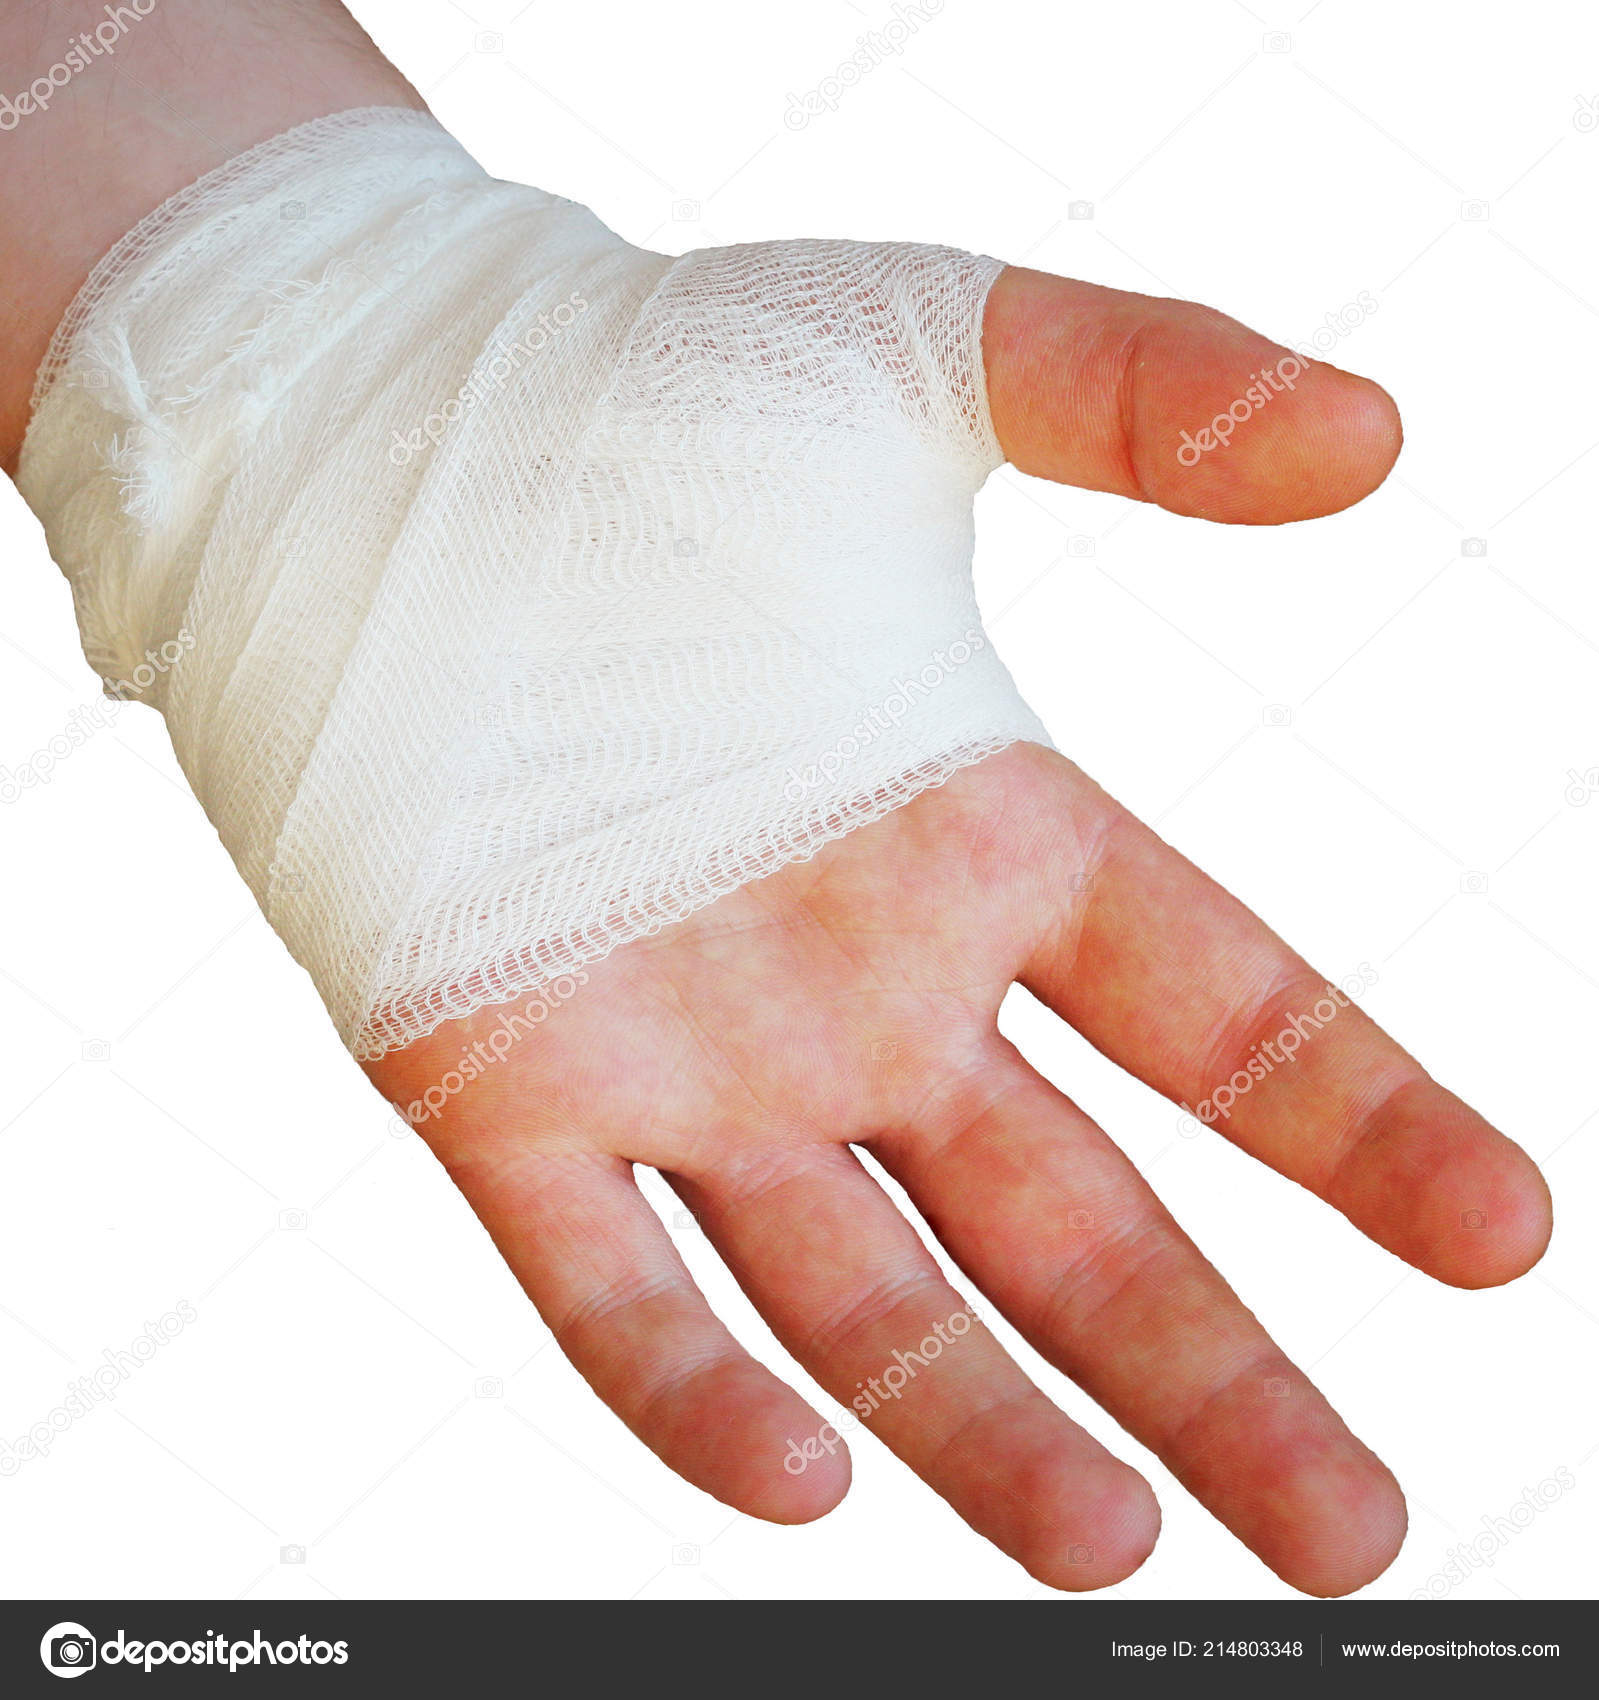injured: (50, 135, 1599, 1299)
